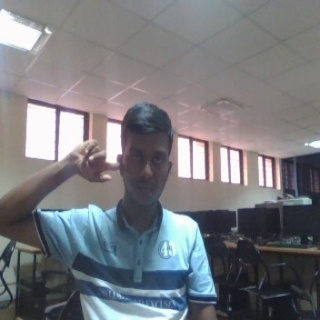Deaf: (65, 138, 121, 185)
Face: (116, 101, 175, 212)
